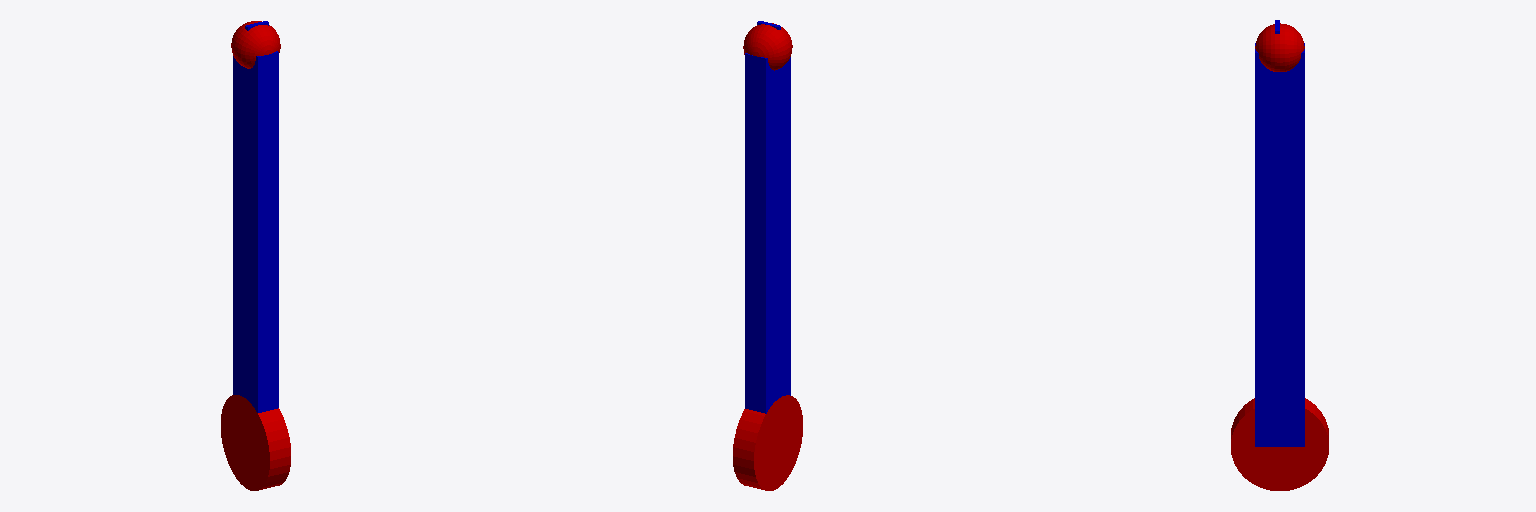
The robot description file, URDF, robot "TwoLinkStruct2195120891":
<?xml version="1.0"?>
<robot  name="TwoLinkStruct2195120891" >
 <material  name="blue" >
  <color  rgba="0 0 0.8 1.0" />
 </material>
 <material  name="red" >
  <color  rgba="0.8 0 0 1.0" />
 </material>
 <link  name="base_link" >
  <visual >
   <origin  rpy="0 1.5707 0"  xyz="0 0 0" />
   <material  name="red" />
   <geometry >
    <cylinder  length="0.05"  radius="0.1" />
   </geometry>
  </visual>
 </link>
 <joint  type="revolute"  name="joint1" >
  <parent  link="base_link" />
  <child  link="link1" />
  <origin  xyz="0 0 0"  rpy="0 0 0" />
  <axis  xyz="1 0 0" />
 </joint>
 <link  name="link1" >
  <inertial >
   <origin  rpy="0 0 0"  xyz="0 0 0.43982999962567876" />
   <mass  value="3.498668086908139" />
   <inertia  ixy="0.0"  iyy="0.001457778369545058"  izz="0.22633516946447135"  ixz="0.0"  ixx="0.22633516946447135"  iyz="0.0" />
  </inertial>
  <visual >
   <origin  rpy="0 0 0"  xyz="0 0 0.43982999962567876" />
   <material  name="blue" />
   <geometry >
    <box  size="0.05 0.1 0.8796599992513575" />
   </geometry>
  </visual>
 </link>
 <joint  type="fixed"  name="joint-joint-1" >
  <parent  link="link1" />
  <child  link="joint-link-1" />
  <origin  xyz="0 0 0.8796599992513575"  rpy="1.5707 0 0" />
  <axis  xyz="1 0 0" />
 </joint>
 <link  name="joint-link-1" >
  <inertial >
   <origin  rpy="0 0 0"  xyz="0 0 0" />
   <mass  value="2.495279284085766" />
   <inertia  ixy="0"  iyy="0"  izz="0"  ixz="0"  ixx="0"  iyz="0" />
  </inertial>
  <visual >
   <origin  rpy="0 0 0"  xyz="0 0 0" />
   <material  name="red" />
   <geometry >
    <sphere  radius="0.05" />
   </geometry>
  </visual>
 </link>
 <joint  type="revolute"  name="joint2" >
  <parent  link="link1" />
  <child  link="link2" />
  <origin  xyz="0 0 0.8796599992513575"  rpy="1.5707 0 0" />
  <axis  xyz="1 0 0" />
 </joint>
 <link  name="link2" >
  <inertial >
   <origin  rpy="0 0 0"  xyz="0 0 0.005" />
   <mass  value="0.0588633394241333" />
   <inertia  ixy="0.0"  iyy="0.001457778369545058"  izz="0.0007580447521634301"  ixz="0.0"  ixx="0.0007580447521634301"  iyz="0.0" />
  </inertial>
  <visual >
   <origin  rpy="0 0 0"  xyz="0 0 0.005" />
   <material  name="blue" />
   <geometry >
    <box  size="0.05 0.1 0.01" />
   </geometry>
  </visual>
 </link>
 <joint  type="fixed"  name="eef_joint" >
  <parent  link="link2" />
  <child  link="eef" />
  <origin  xyz="0 0 0.01"  rpy="0 0 0" />
 </joint>
 <link  name="eef" >
  <inertial >
   <origin  rpy="0 0 0"  xyz="0 0 0" />
   <mass  value="1" />
   <inertia  ixy="0"  iyy="0"  izz="0"  ixz="0"  ixx="0"  iyz="0" />
  </inertial>
 </link>
 <transmission  name="motor1" >
  <type  xmltext="SimpleTransmission" >
   SimpleTransmission
  </type>
  <actuator  name="motor1" >
   <mechanicalreduction  xmltext="1" >
    1
   </mechanicalreduction>
  </actuator>
  <joint  name="joint1" />
 </transmission>
 <transmission  name="motor2" >
  <type  xmltext="SimpleTransmission" >
   SimpleTransmission
  </type>
  <actuator  name="motor2" >
   <mechanicalreduction  xmltext="1" >
    1
   </mechanicalreduction>
  </actuator>
  <joint  name="joint2" />
 </transmission>
</robot>

<!-- {'carti': array([-0.1 ,  0.14,  0.85]), 'cartd': array([-0.1 ,  0.32,  1.29]), 'tau_mu': 1.0, 'b0': 0.25765373354752696, 'Km': 5.0, 'k_velocity': 100.0, 'tau_max_m': 0.32824700868860696, 'omega_max_m': 1000.0, 'gear_ratio': 25.0, 'Kp': 0.0, 'Kd': 100.0, 'm_m': 2.495279284085766, 'l1': 0.8796599992513575, 'l2': 0.01, 'k1': 1000.0, 'k2': 1000.0, 'k3': 379000000.0}-->

--- Facts derived from the render (not from the file) ---
Views: 3 orthographic renders of the robot side by side, from view 1: azimuth 30°, elevation 25°; view 2: azimuth 150°, elevation 25°; view 3: azimuth 270°, elevation 25°.
Model TwoLinkStruct2195120891 with 5 links and 4 joints (2 revolute, 2 fixed), rooted at base_link, posed every joint at zero.
Visible links, largest first — view 1: link1, base_link, joint-link-1; view 2: link1, base_link, joint-link-1; view 3: link1, base_link, joint-link-1.
Link boxes in pixels (x1=…): link1: x1=233, y1=51, x2=278, y2=412; base_link: x1=221, y1=395, x2=290, y2=490; joint-link-1: x1=231, y1=21, x2=280, y2=68; link1: x1=745, y1=53, x2=790, y2=413; base_link: x1=733, y1=395, x2=802, y2=490; joint-link-1: x1=743, y1=23, x2=792, y2=70; link1: x1=1255, y1=43, x2=1304, y2=446; base_link: x1=1231, y1=398, x2=1328, y2=490; joint-link-1: x1=1255, y1=23, x2=1304, y2=71.
Bounding box of the posed robot: 0.1 × 0.2 × 1.03 m (x, y, z).
Geometry: primitives only (box / cylinder / sphere), no mesh files.
